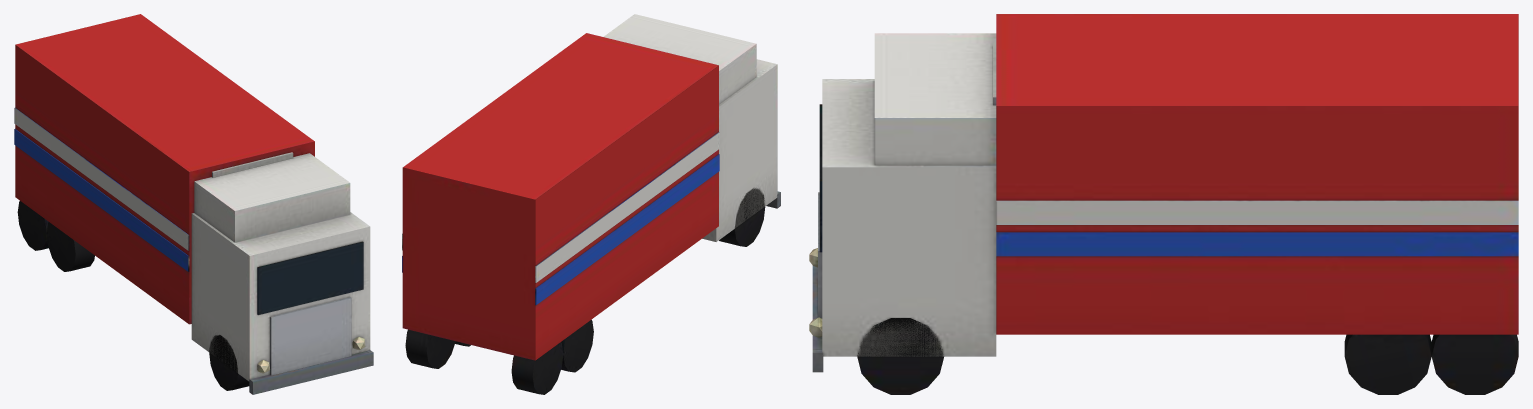
The model's file is camion_equipo.glb.
3 views of the same model, side by side, from view 1: azimuth 30°, elevation 25°; view 2: azimuth 150°, elevation 25°; view 3: azimuth 270°, elevation 25° (orthographic). The views are drawn at different scales.
Visible parts, largest first — view 1: camion_equipo; view 2: camion_equipo; view 3: camion_equipo.
Boxes of the visible parts, x1,y1,x2,y2 form: camion_equipo: [14, 14, 373, 394]; camion_equipo: [402, 14, 780, 394]; camion_equipo: [809, 14, 1518, 394].
Bounding box in the file's own units: 2.53 × 3.69 × 8.15.
1 material, 1 textured.
